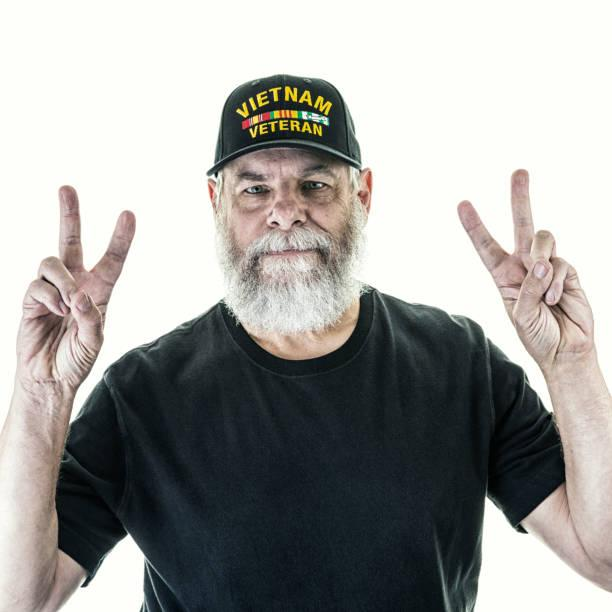peace_sign: (9, 176, 143, 406)
